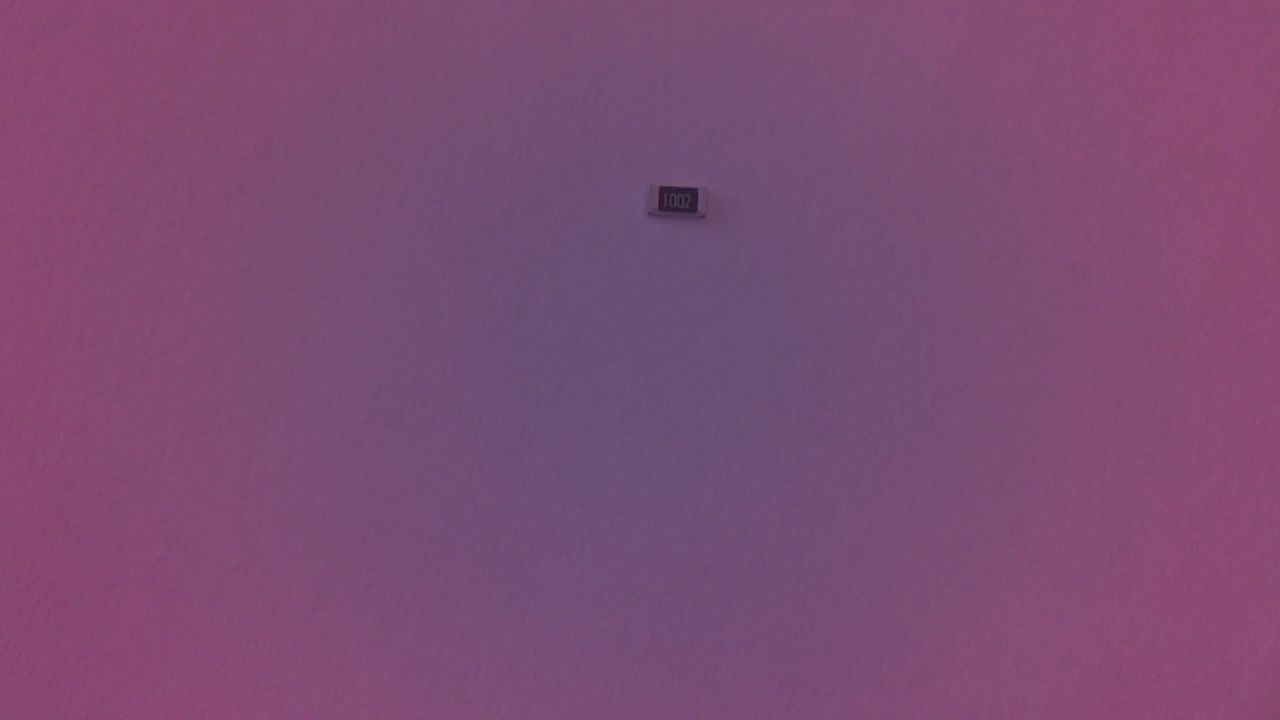Resistor: (646, 186, 717, 226)
